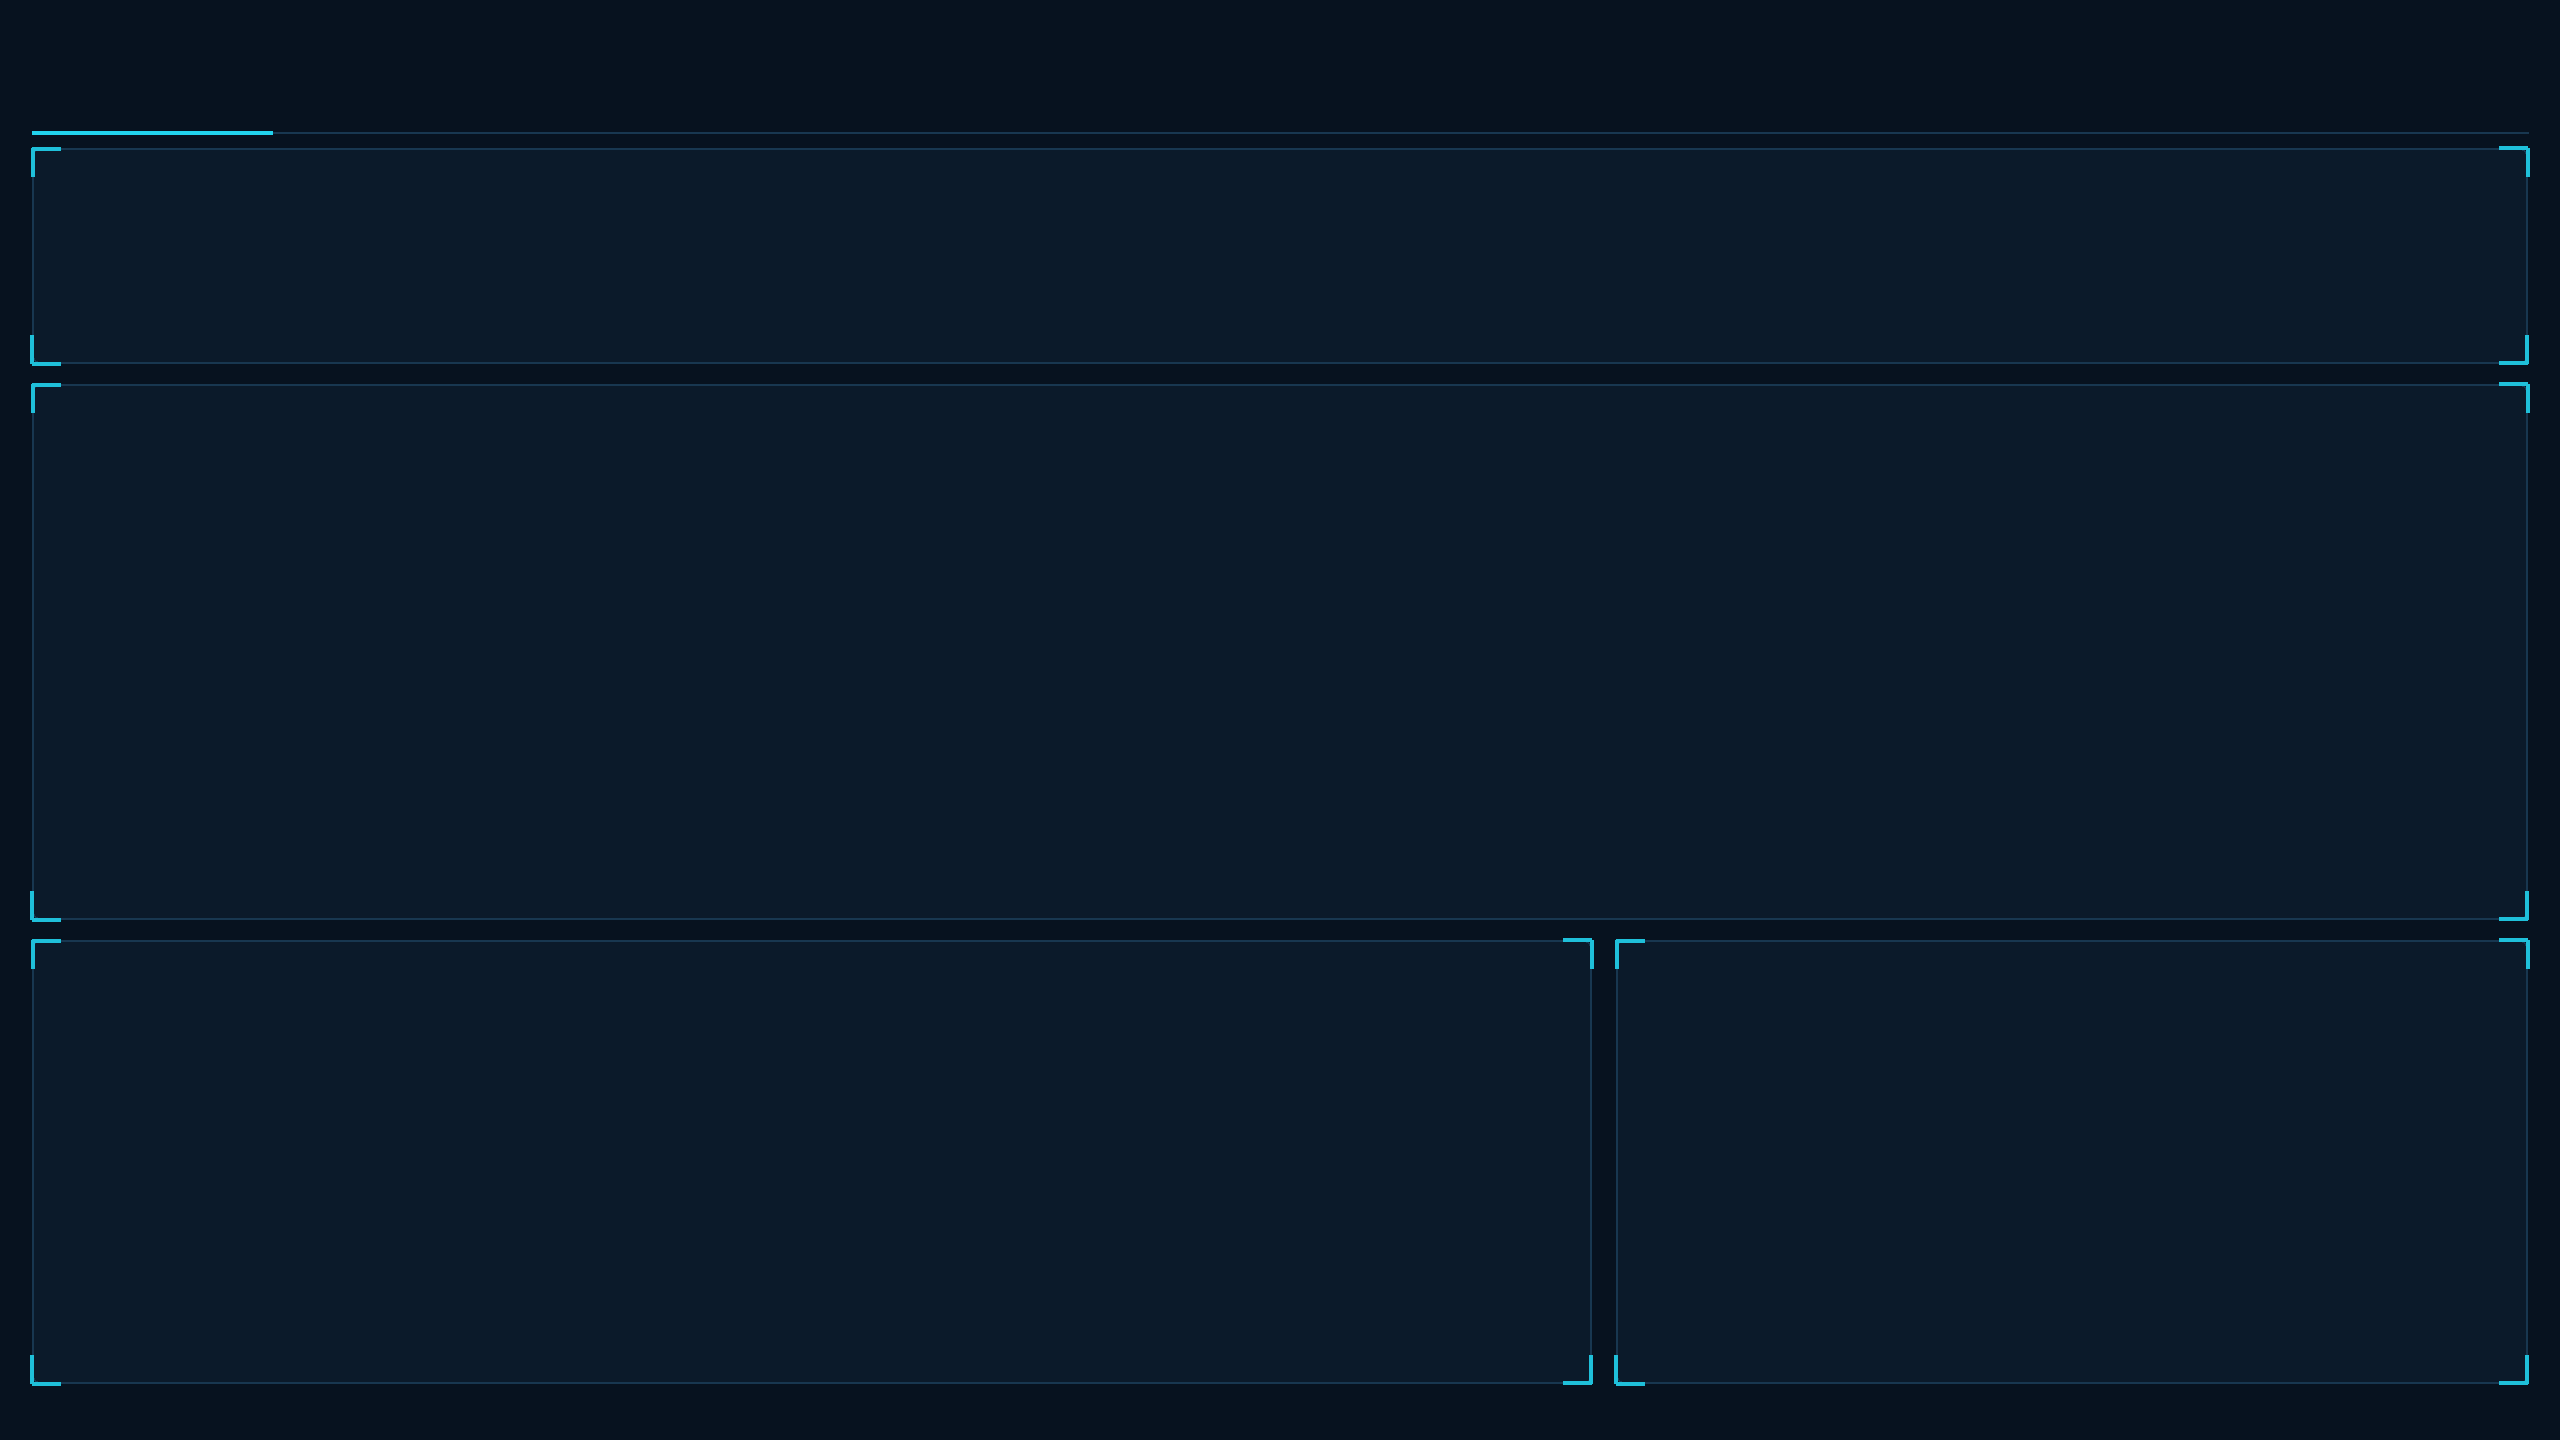

Layout of this report page (visuals, bound fields, positions):
{"tool":"powerbi","page":{"name":"Method and limits","canvas":[1280,720],"ordinal":6},"visuals":[{"type":"textbox","box":[16,8,1240,34],"z":0},{"type":"textbox","box":[16,40,1240,22],"z":1000},{"type":"textbox","box":[16,694,1248,24],"z":2000},{"type":"textbox","box":[32,88,588,588],"z":3000},{"type":"textbox","box":[664,88,584,588],"z":4000}]}

Visuals, with their boxes in screenshot pixels (x1, y1, x2, y2), scaled from the page's 1280x720 canvas onto the 2560x1440 screenshot:
textbox: bbox(32, 16, 2512, 84)
textbox: bbox(32, 80, 2512, 124)
textbox: bbox(32, 1388, 2528, 1436)
textbox: bbox(64, 176, 1240, 1352)
textbox: bbox(1328, 176, 2496, 1352)
